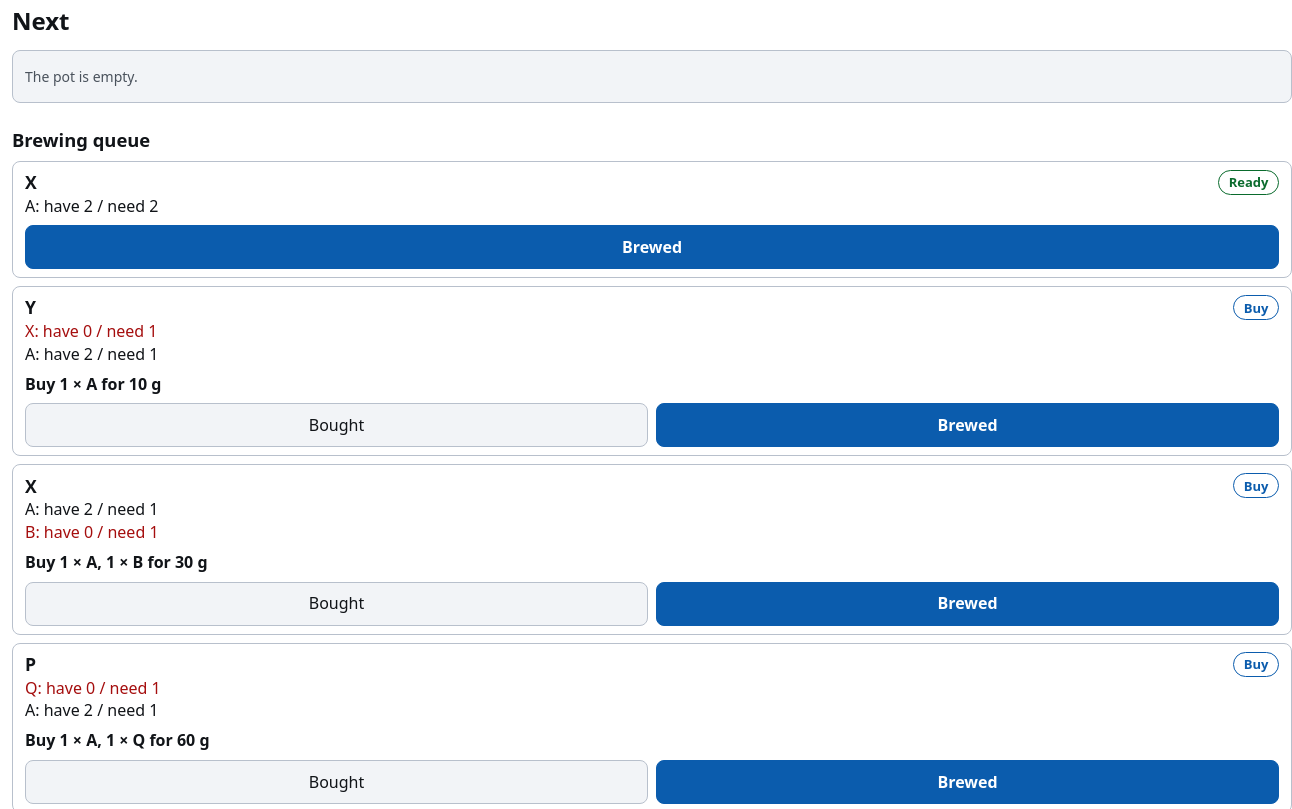
Test: Next › Collect empties the pot and the bag gains the result
What coordinates should you click on to do the following:
click the button with aria-label "Brewed X"
I would click on:
 (652, 247)
Its box is [25,225,1279,269].
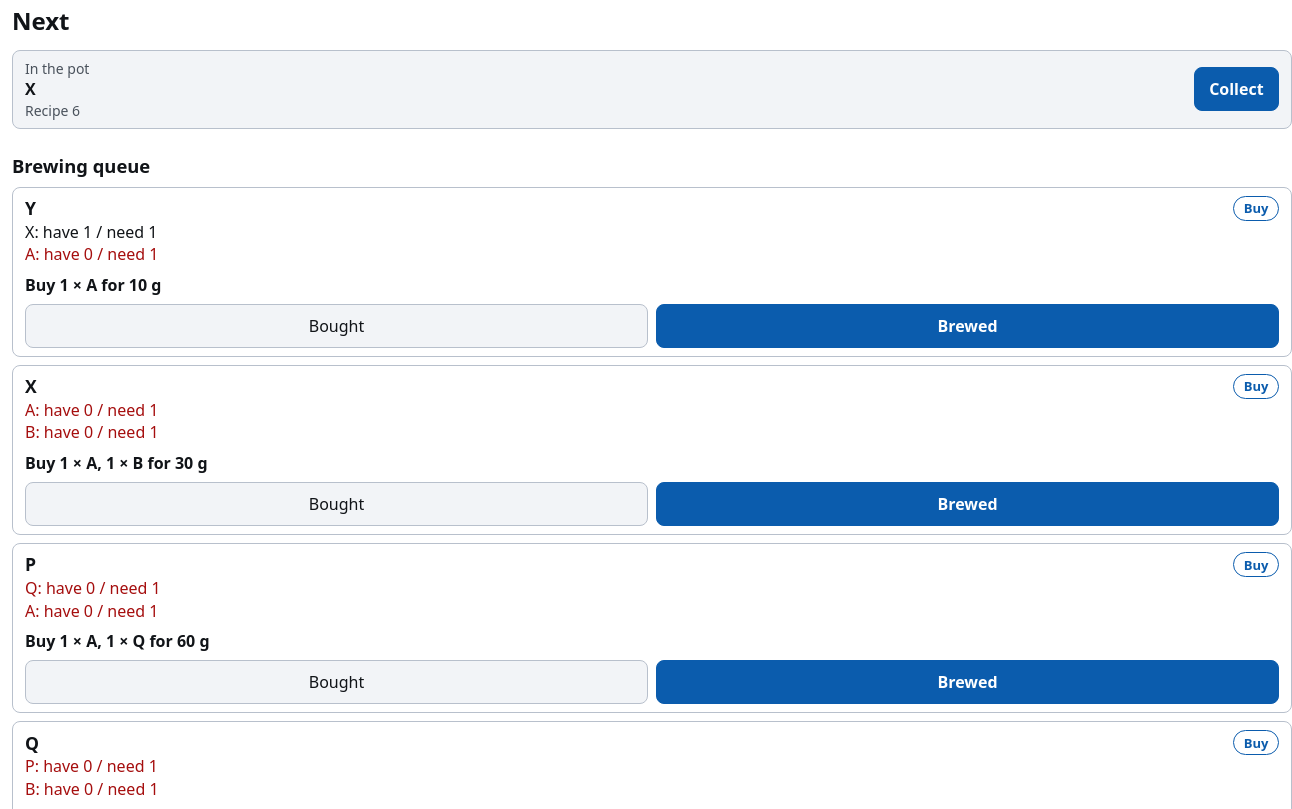
What coordinates should you click on to do the following:
click the button "Collect"
I would click on:
 (1236, 89)
Its box is [1194,67,1279,111].
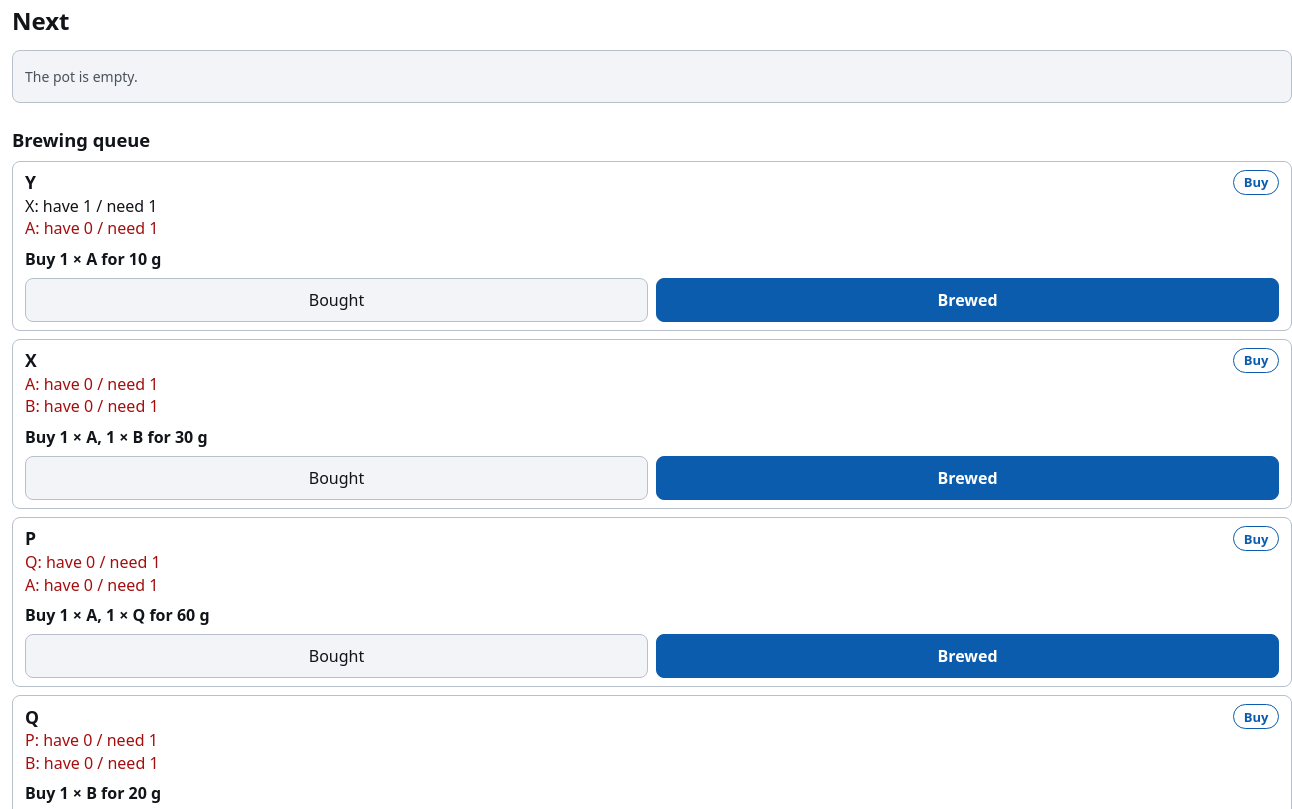
Check: the button "Collect" is gone
